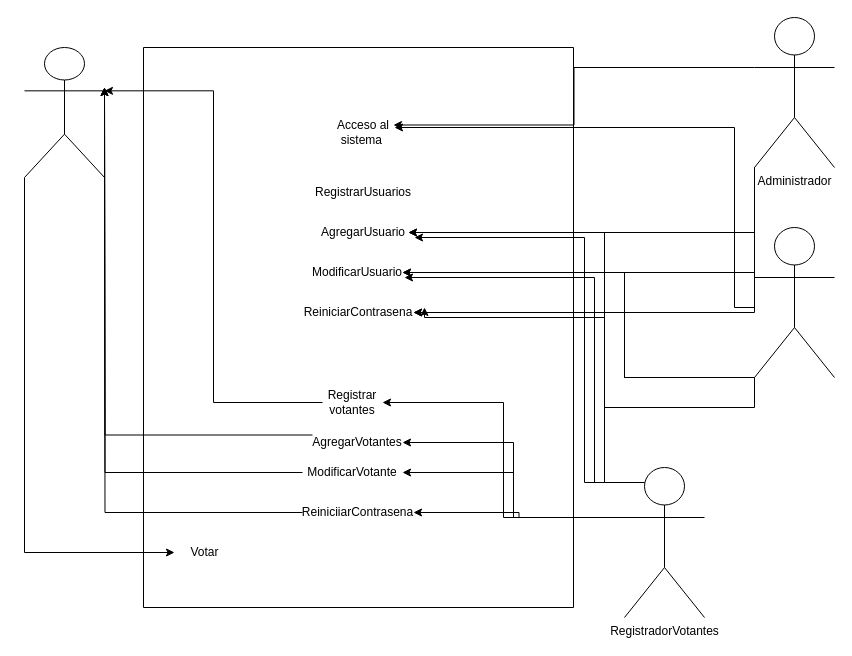
Some shapes in this 852 by 656 pixel diagram are drawn without their labels. The centre of each missing label's shape, as x and y in pixels:
"Auditor" belongs at (x=794, y=302).
"Votante" belongs at (x=64, y=112).
